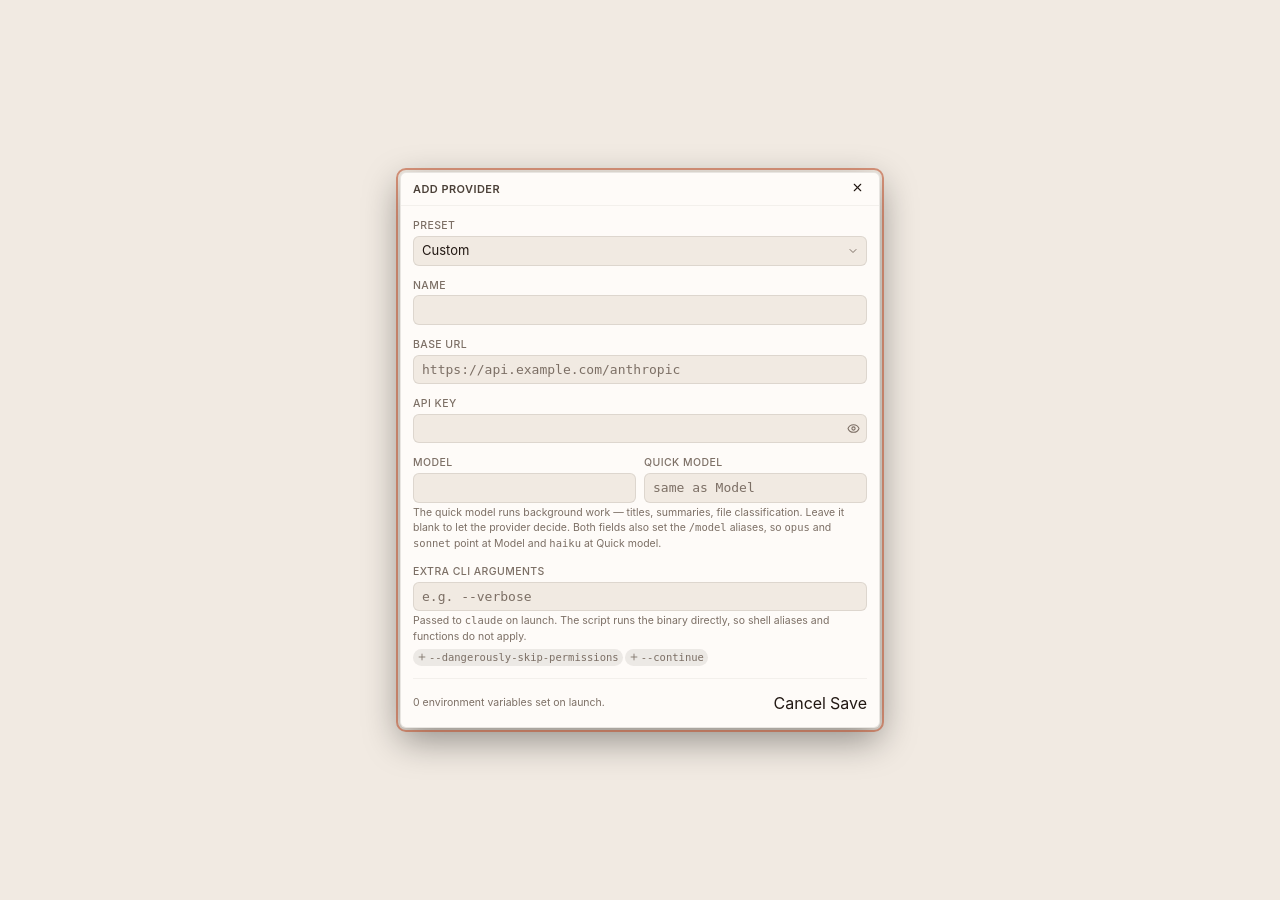
Test: ProviderForm › removes a flag when its chip is clicked again, leaving the rest intact
This screenshot has width=1280, height=900.
Expected: the dropdown labelled "Preset" is shown, [413,236,867,266]
Type "--dangerously-skip-permissions --verbose" into the field labelled "Extra CLI arguments" at (640, 596), box [413,582,867,611]
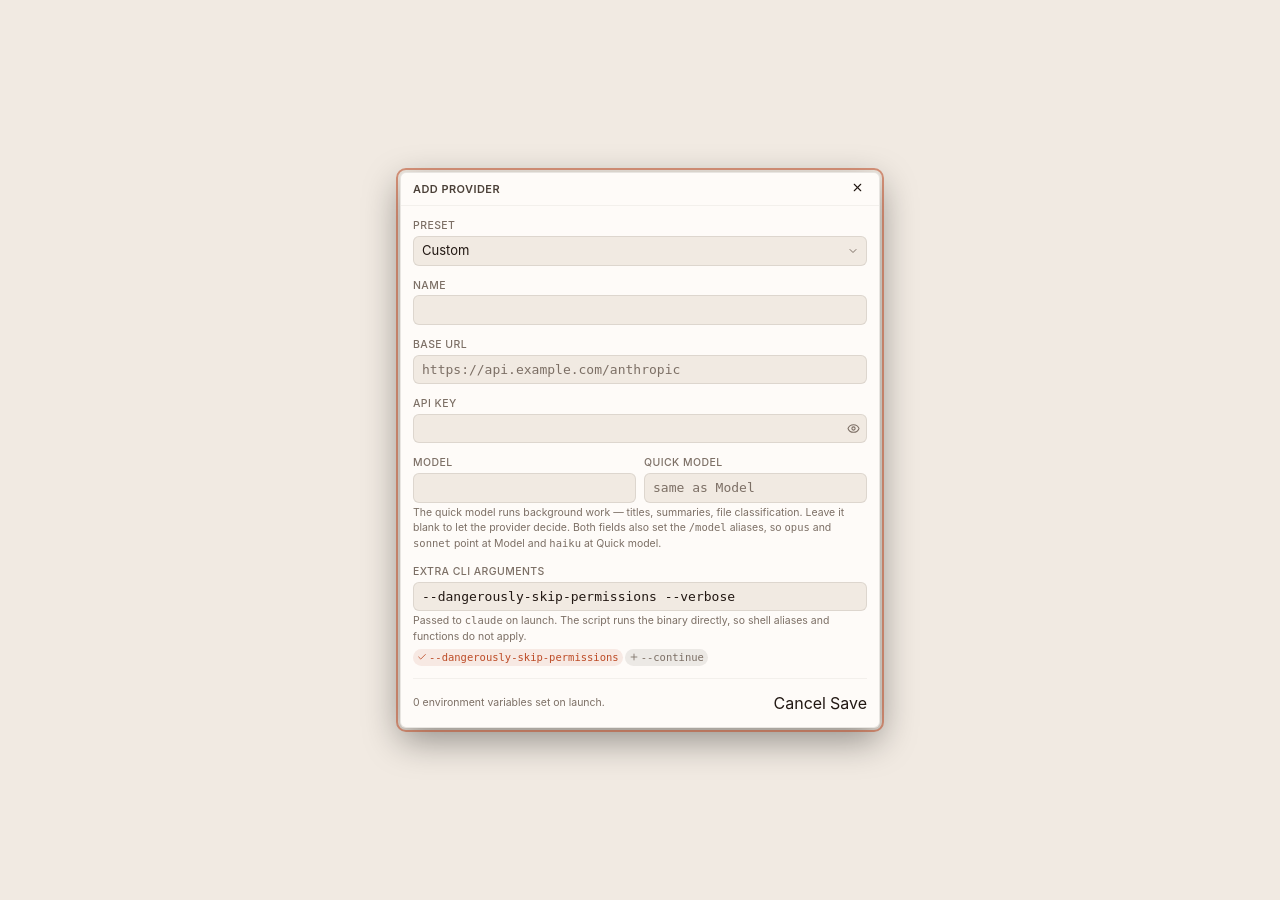
Result: the button "--dangerously-skip-permissions" is pressed
Click the button "--dangerously-skip-permissions" at (518, 657), box [413,648,623,666]
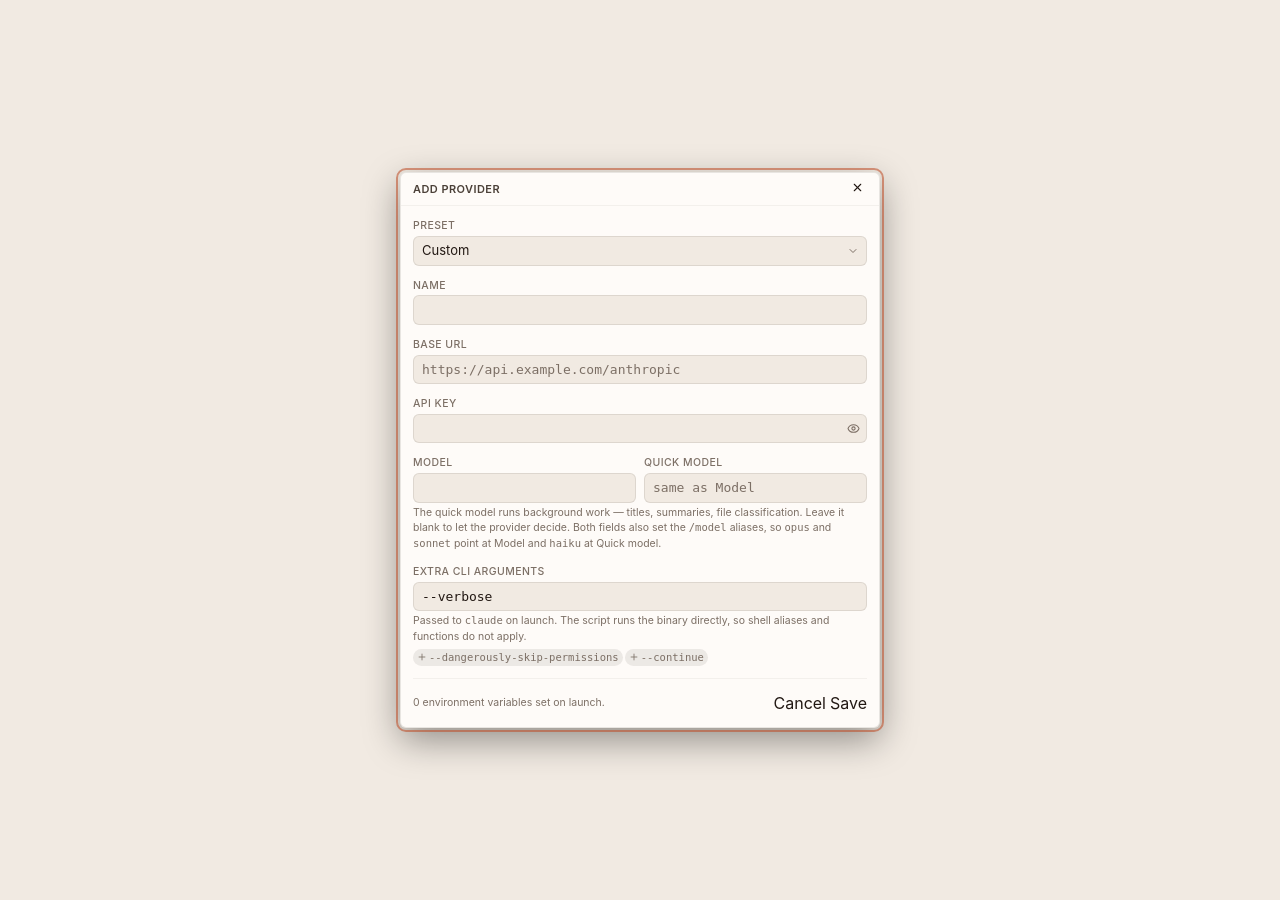
Result: the field labelled "Extra CLI arguments" holds "--verbose" at [413,582,867,611]
